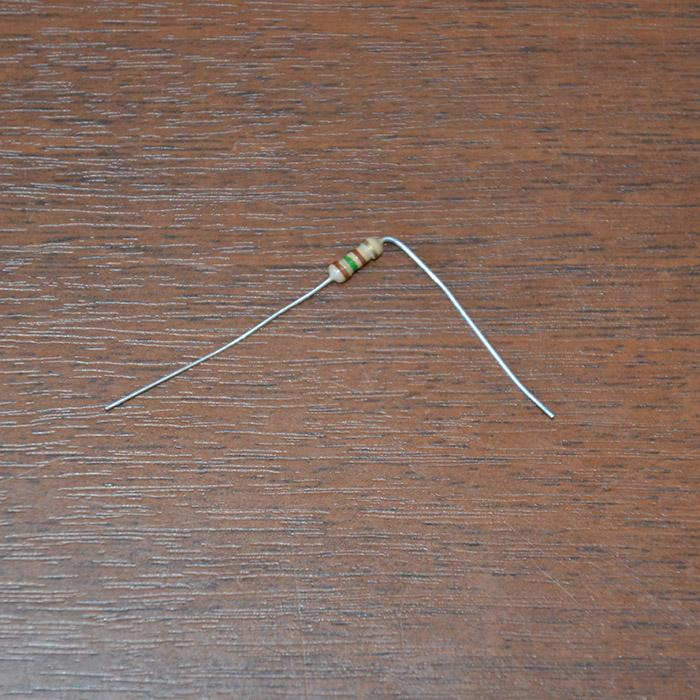resistor: (327, 235, 382, 283)
